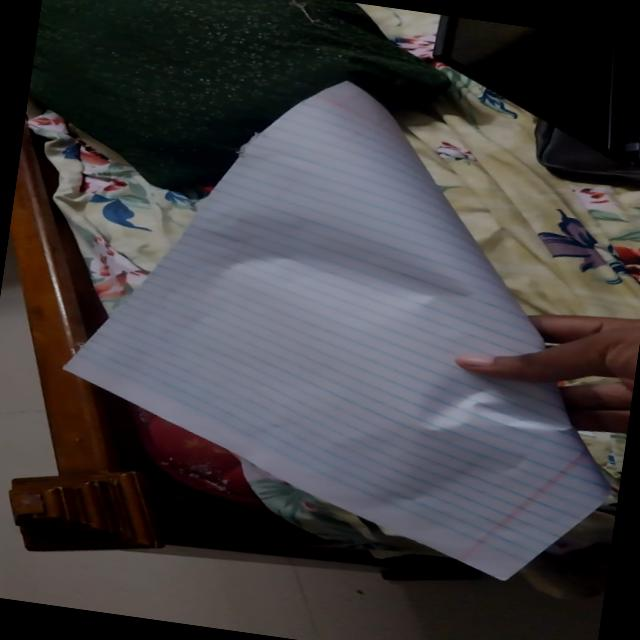Paper - Recyclable: (37, 44, 640, 594)
